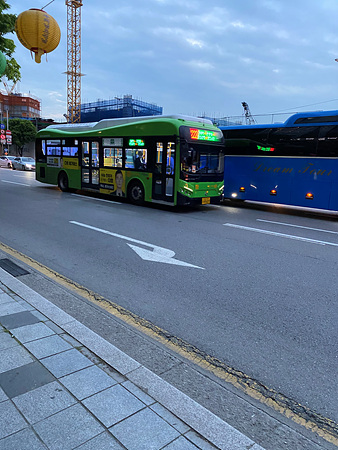entrance: (149, 133, 179, 209)
